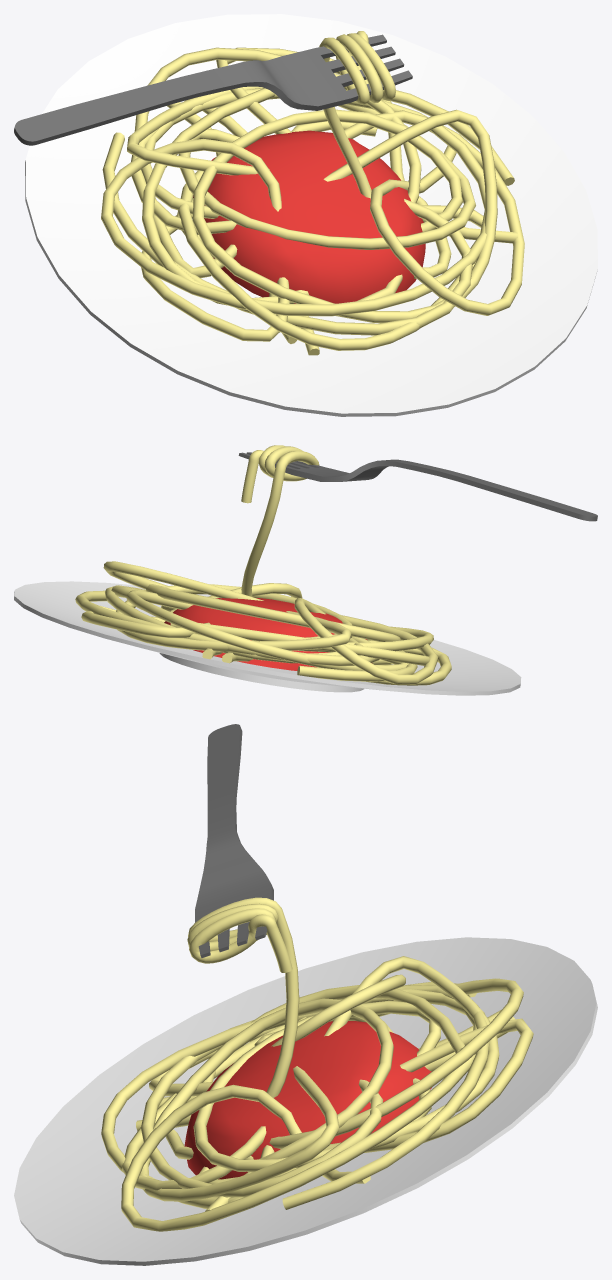
File: spaghetti.glb
3 renders of one model, top to bottom at view 1: azimuth 30°, elevation 25°; view 2: azimuth 150°, elevation 25°; view 3: azimuth 270°, elevation 25°, orthographic. The views are drawn at different scales.
Parts seen in each view (by area): view 1: Circle.2247; view 2: Circle.2247; view 3: Circle.2247.
Part boxes in pixels (<box>): Circle.2247: <box>14,14,597,416</box>; Circle.2247: <box>14,445,597,695</box>; Circle.2247: <box>14,724,597,1265</box>.
Bounding box in the file's own units: 2.39 × 1.16 × 1.95.
1 material, 1 textured.
